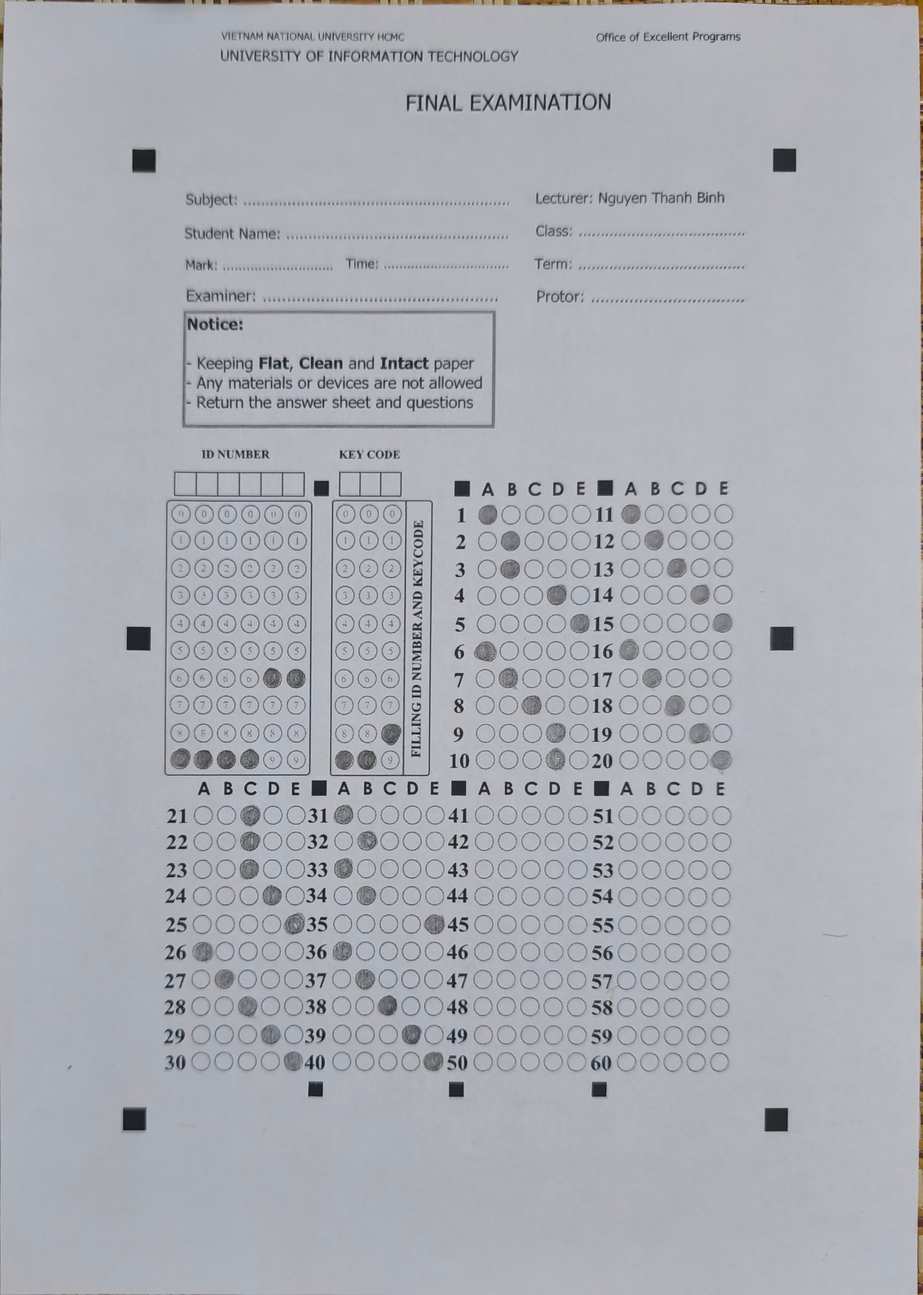info_region: (169, 499, 407, 777)
paper_region: (143, 153, 784, 1125)
q_1_20: (462, 486, 739, 789)
q_21_60: (169, 790, 739, 1091)
